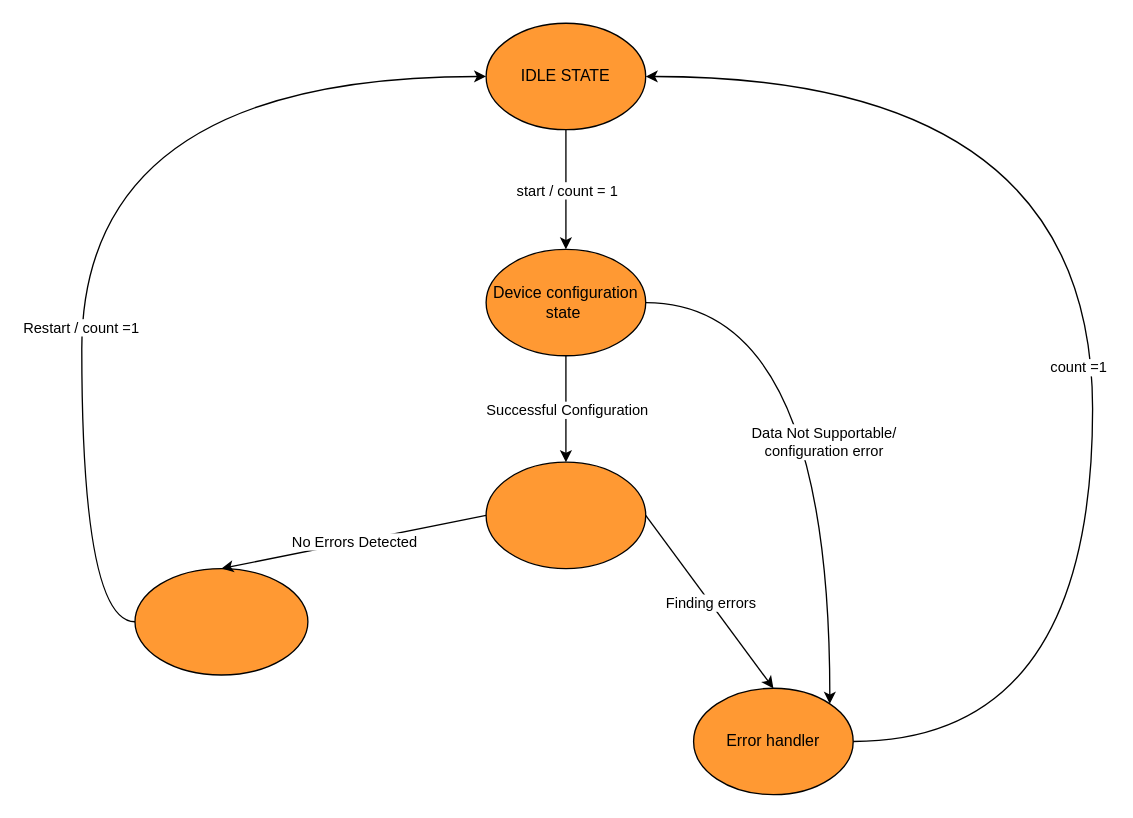
This 1133x818 diagram has some shape labels left out. Each missing label, with the centre of its shape:
"Device testing state" belongs at (565,515).
"Passed state" belongs at (221,621).
